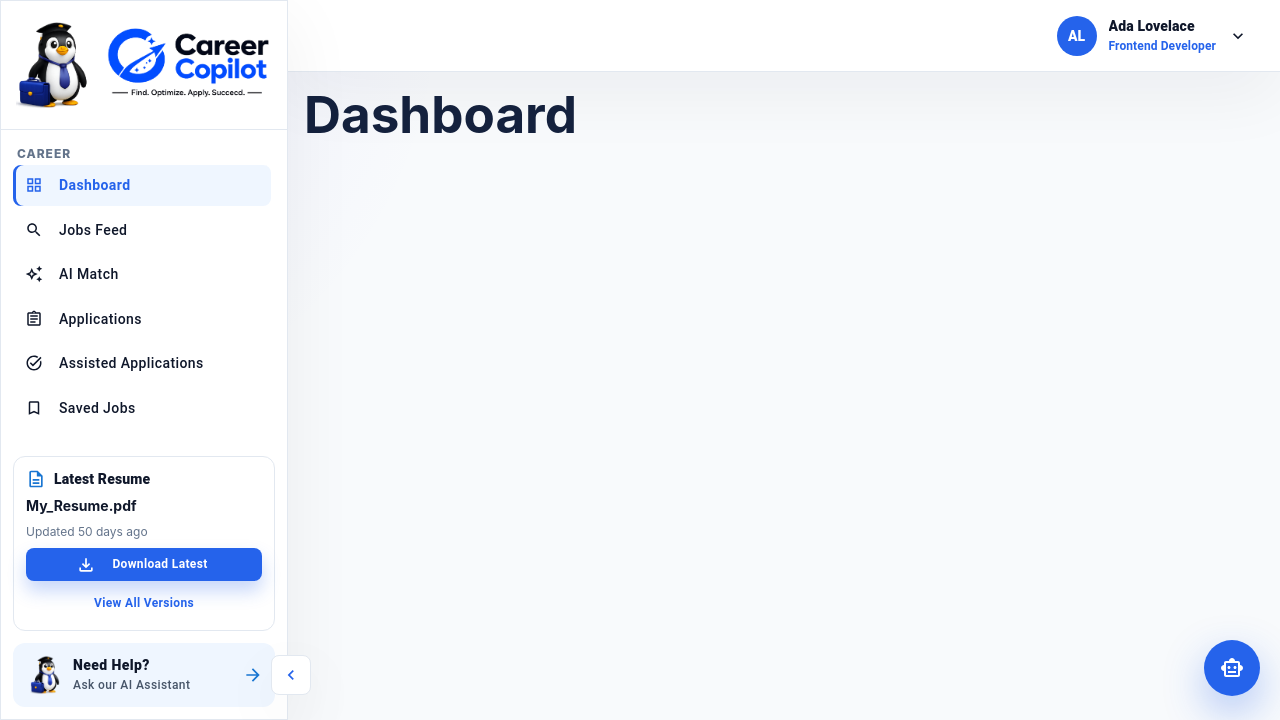
Test case: AppLayout › resumes and downloading › shows fallback error toast when downloading resume throws a non-Error
Click the button "Download Latest".
click(144, 564)  # box x1=26 y1=548 x2=262 y2=581
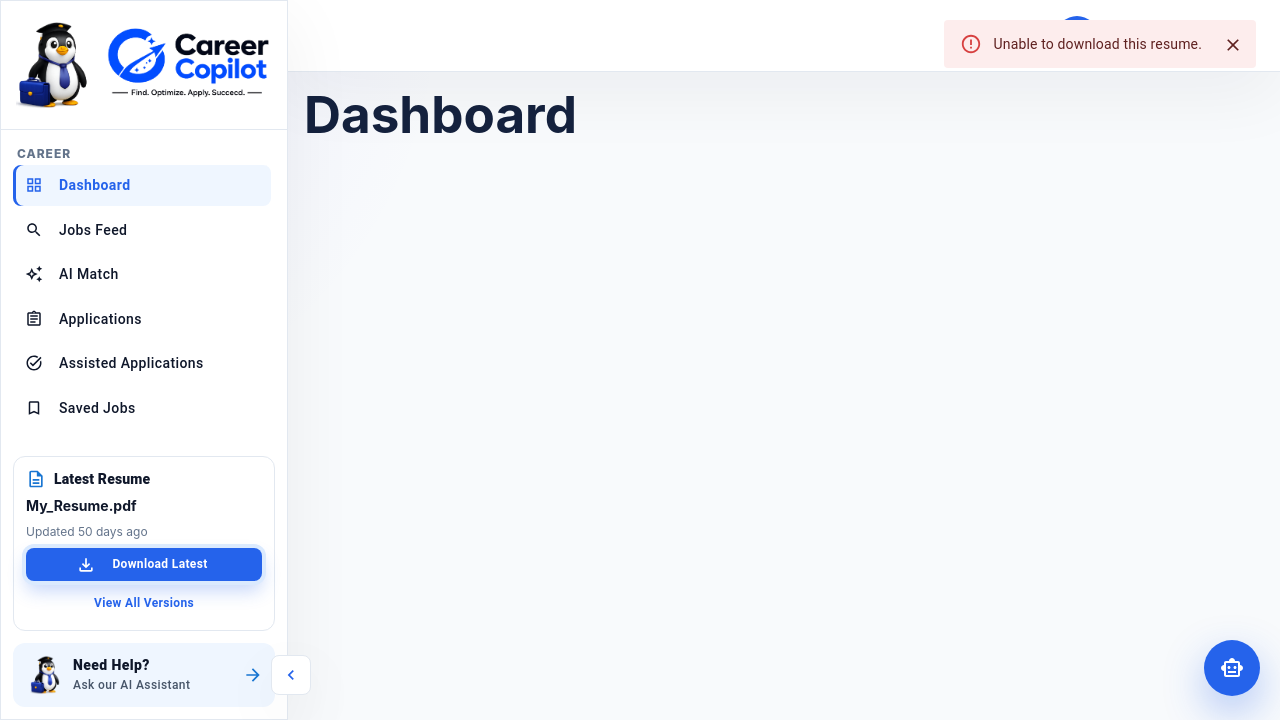
Now the text "Unable to download this resume." is shown, box x1=994 y1=36 x2=1202 y2=52
